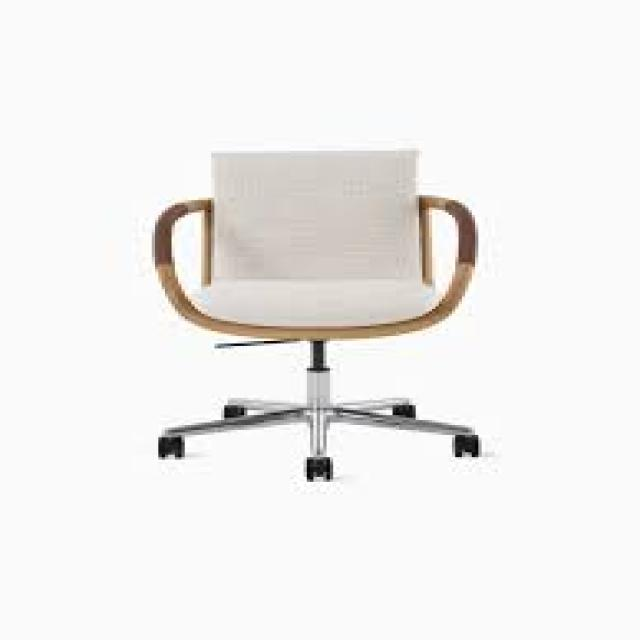chair: (79, 96, 539, 569)
